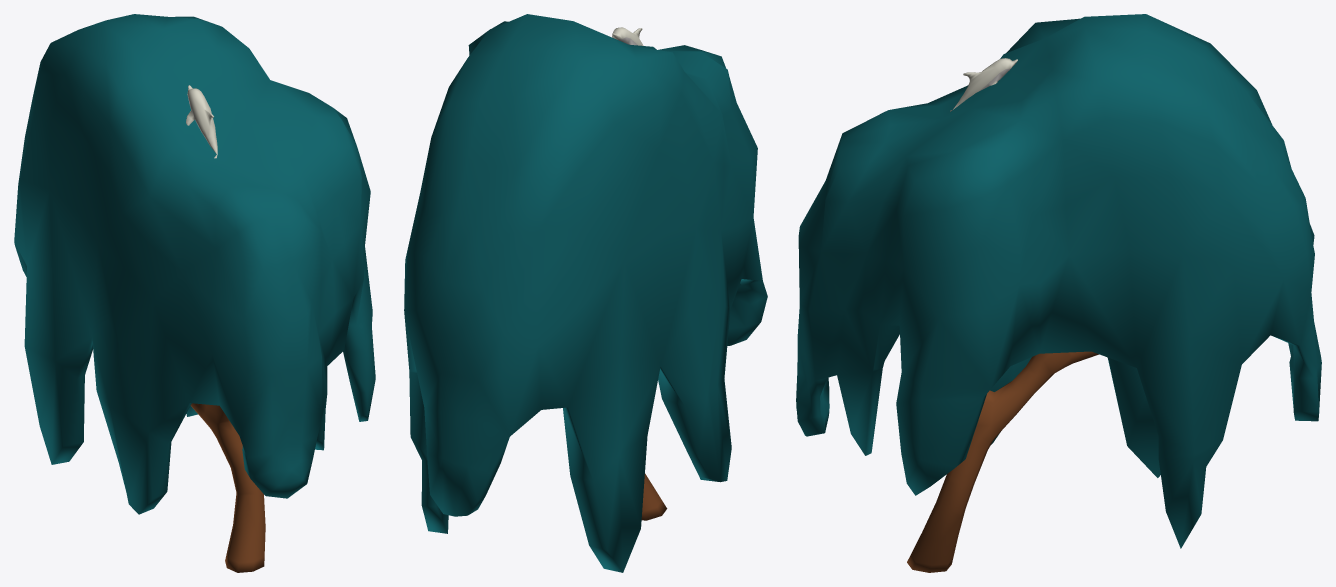
The model's file is Tree-Dolphin-no1.gltf.
3 views of the same model, side by side, from view 1: azimuth 30°, elevation 25°; view 2: azimuth 150°, elevation 25°; view 3: azimuth 270°, elevation 25° (orthographic). The views are drawn at different scales.
Parts seen in each view (by area): view 1: Tree-Dolphin-no1; view 2: Tree-Dolphin-no1; view 3: Tree-Dolphin-no1.
Boxes of the visible parts, x1=… form: Tree-Dolphin-no1: x1=14, y1=14, x2=375, y2=572; Tree-Dolphin-no1: x1=404, y1=14, x2=767, y2=572; Tree-Dolphin-no1: x1=796, y1=14, x2=1321, y2=572.
Size of the model in its own units: 1.45 by 2.85 by 2.55.
1 material, 1 textured.
